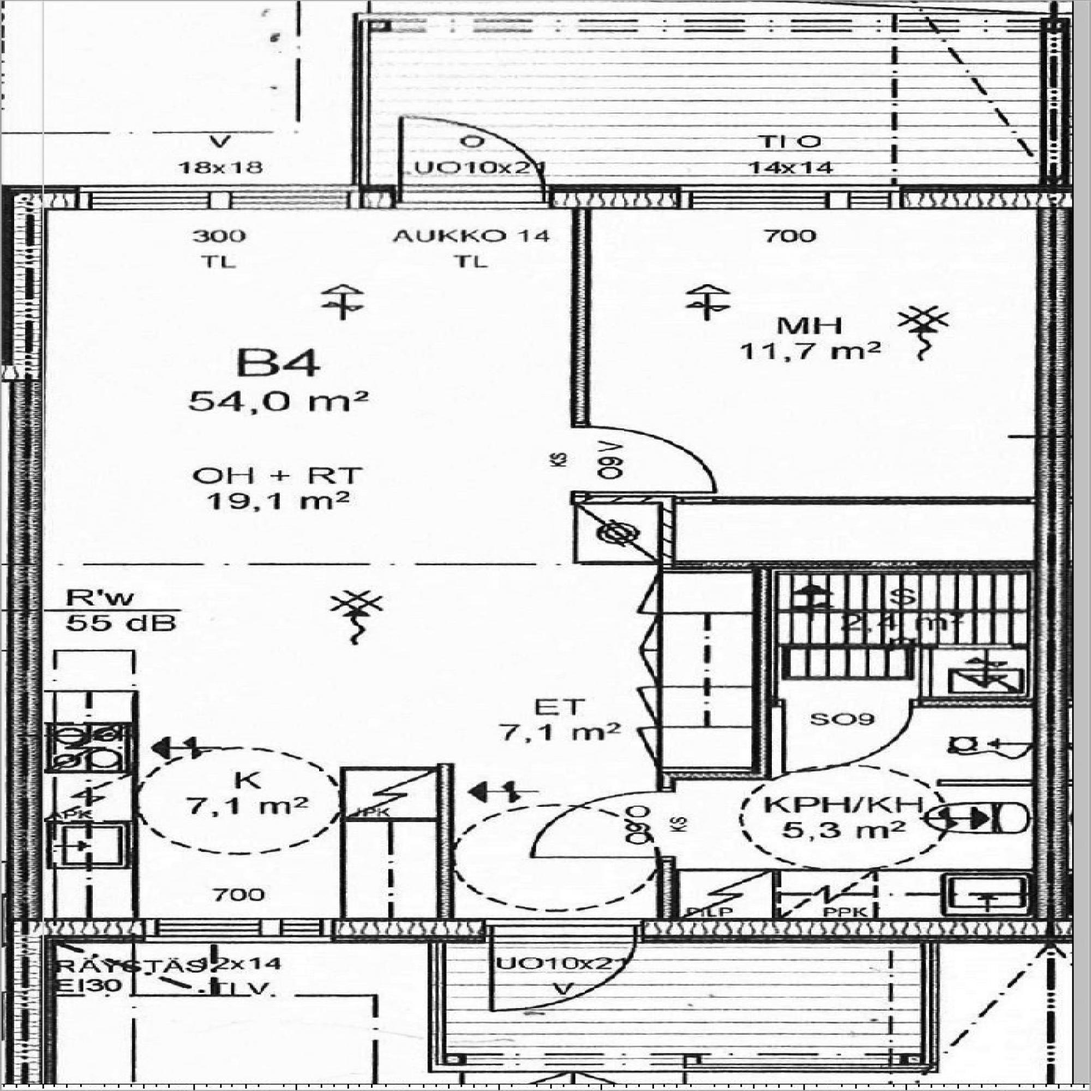wall: (9, 184, 1067, 208), (9, 184, 42, 942), (9, 919, 1067, 942), (1034, 184, 1067, 569), (1034, 707, 1067, 942), (572, 184, 590, 504), (1041, 13, 1068, 208), (1034, 569, 1067, 707), (657, 496, 1067, 504), (436, 763, 453, 942), (658, 771, 675, 942), (754, 698, 1068, 707), (754, 560, 1068, 569), (754, 560, 771, 707), (658, 495, 675, 569), (754, 707, 771, 780), (658, 771, 771, 780), (658, 560, 771, 569), (572, 495, 674, 504), (370, 12, 384, 22)
